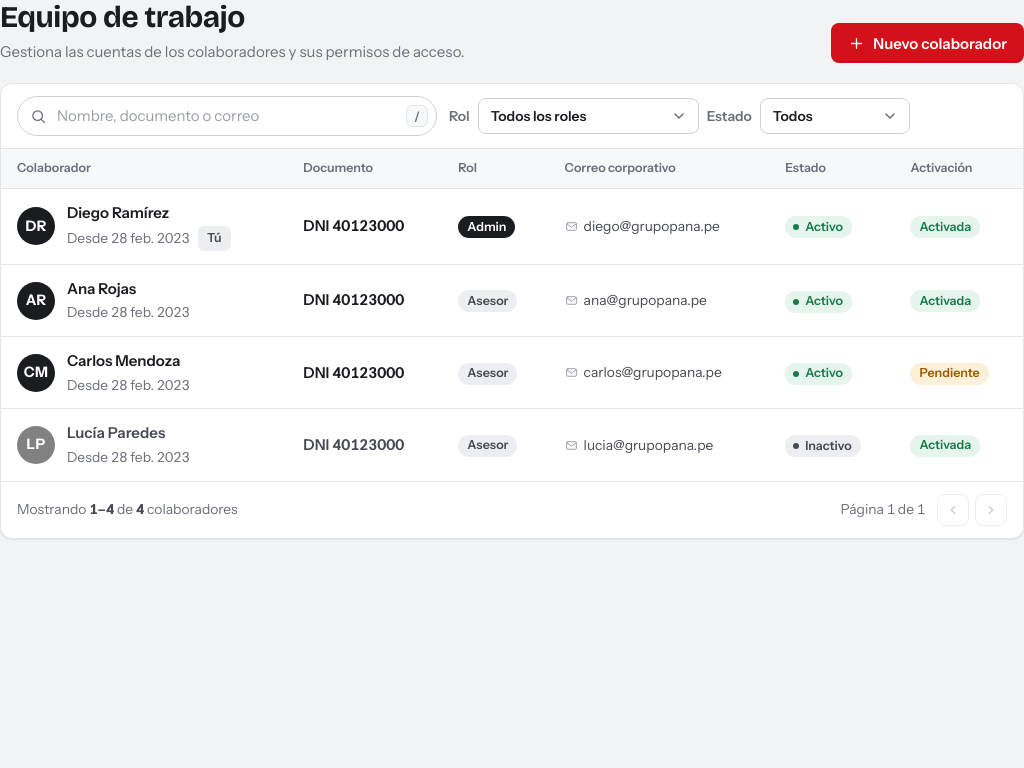
StaffPage › editing › saves only what changed, with the version it started from, then closes and refreshes the list
Click the button "Ana Rojas" at (102, 289), box [67,278,136,300]
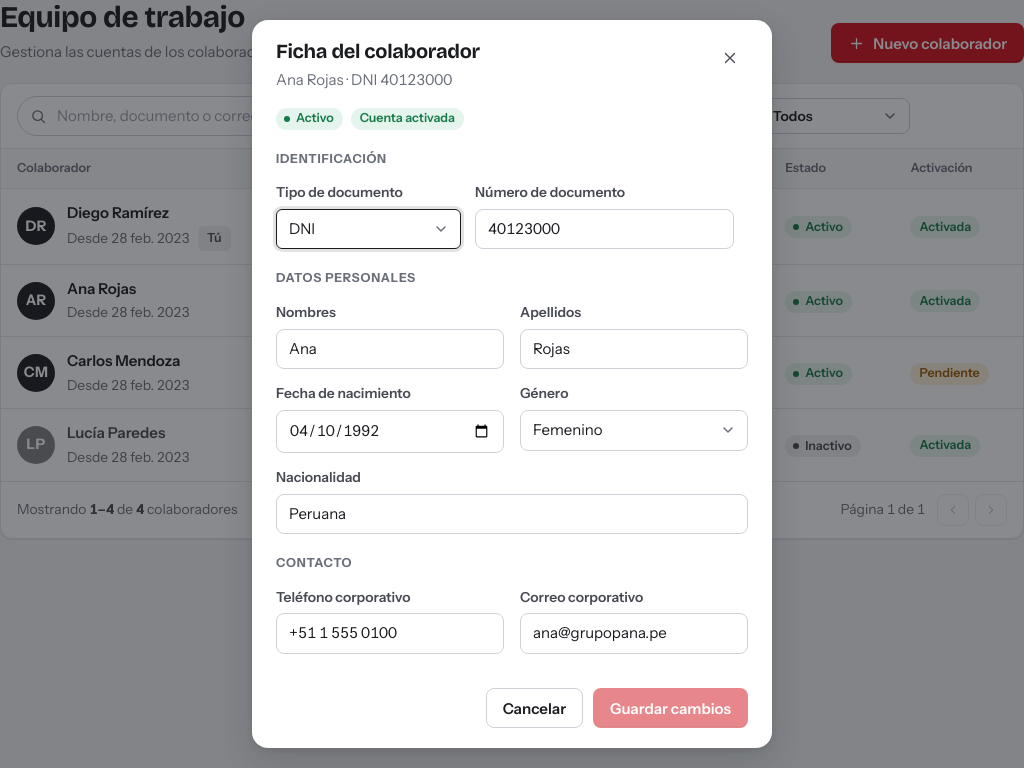
Replace the text in the field labelled "Teléfono corporativo" with "+51 1 555 0199" at (390, 634), box [276,614,504,654]
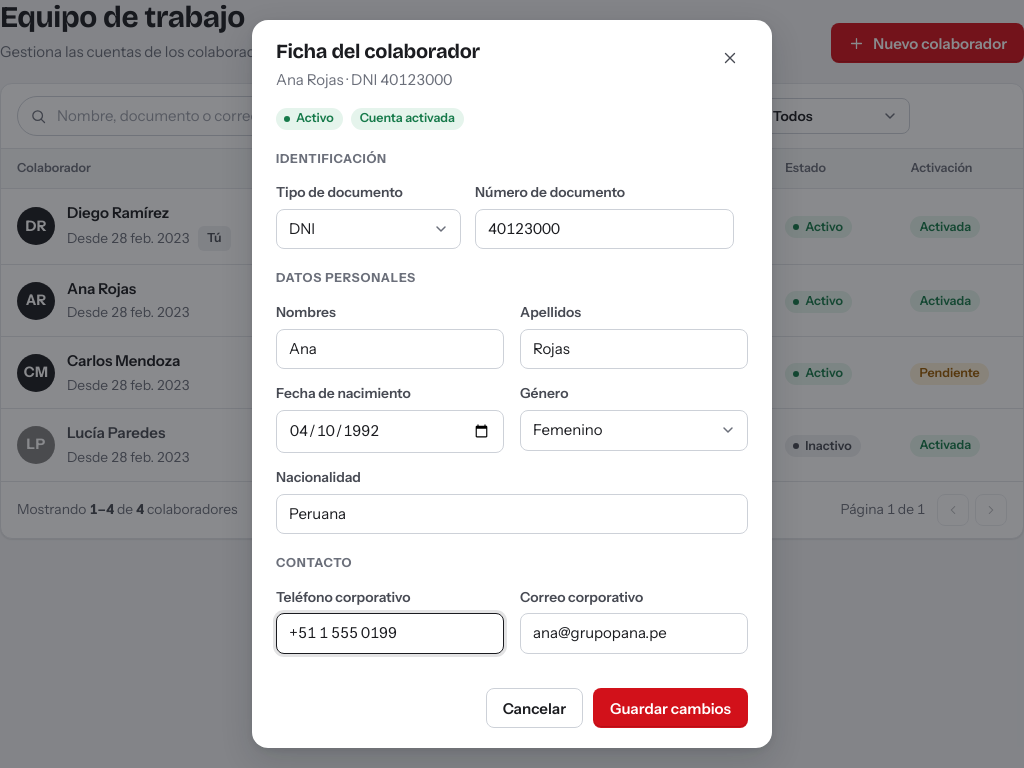
Click the button "Guardar cambios" at (671, 708), box [593,688,748,728]
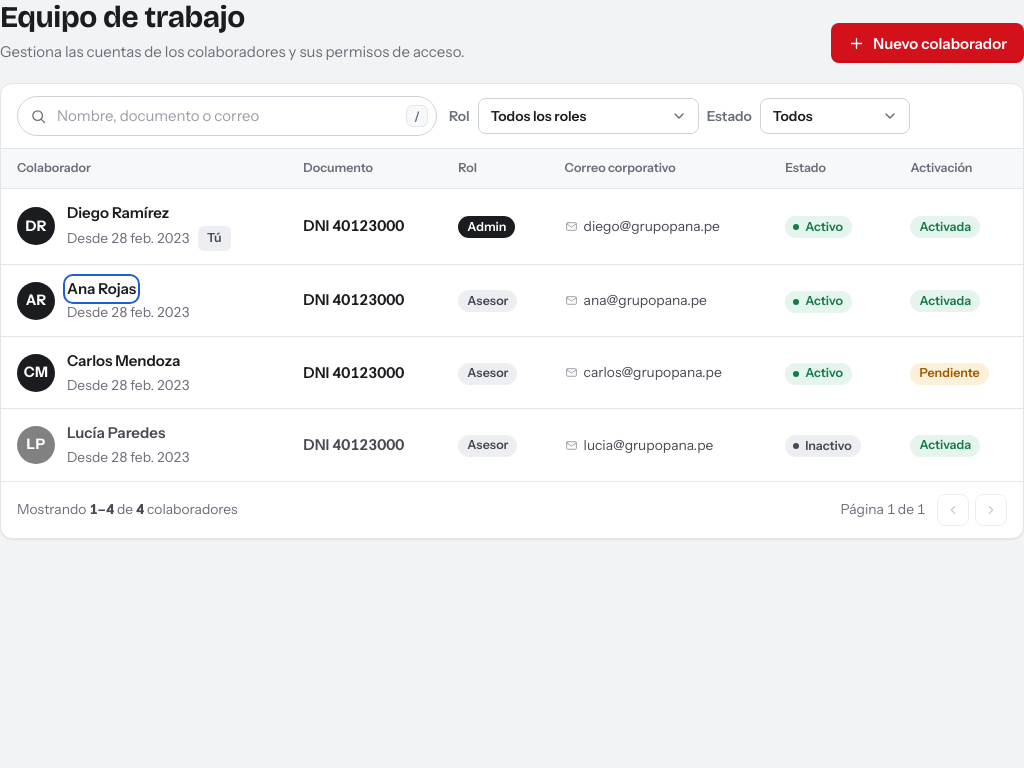
expect the dialog is gone: met
